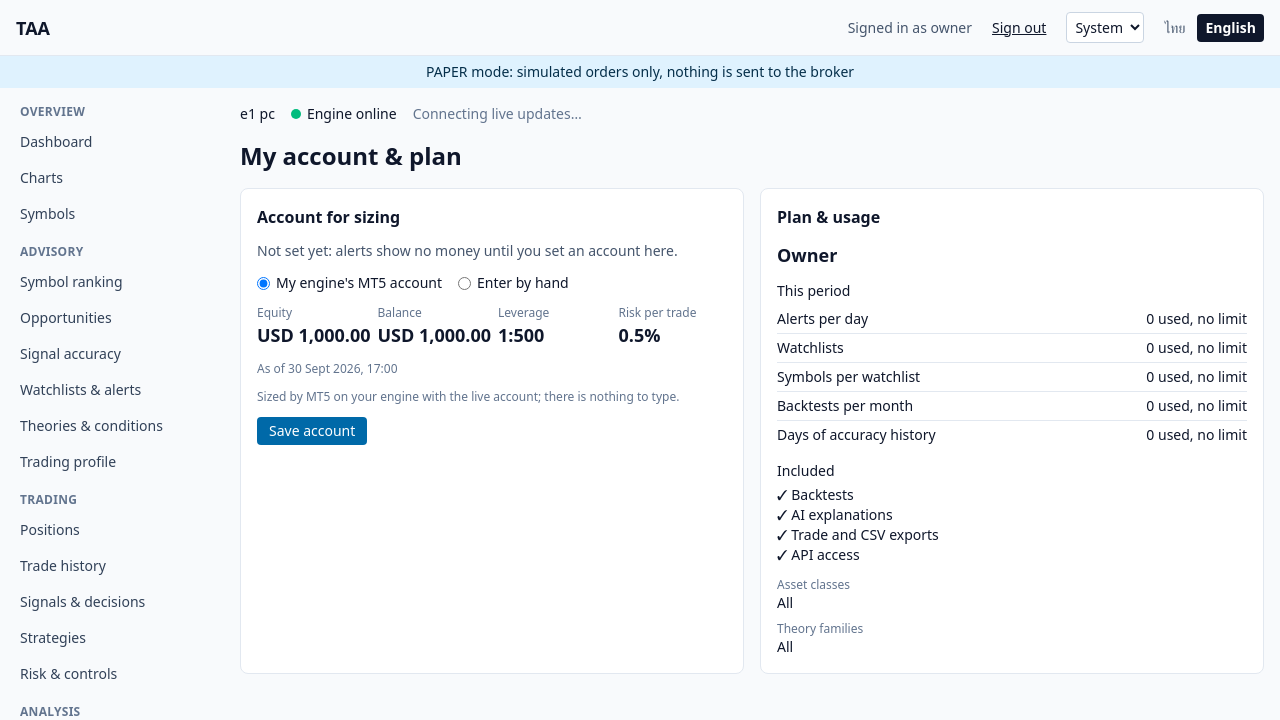
Test: account page › links the profile to the engine’s MT5 account and shows the plan and usage
Expected: the text "Not set yet" is shown, [257,241,678,260]
Expected: the radio button labelled "My engine's MT5 account" is checked, [257,276,270,290]
Click the button "Save account". click: (312, 431)
box: [257,417,367,445]
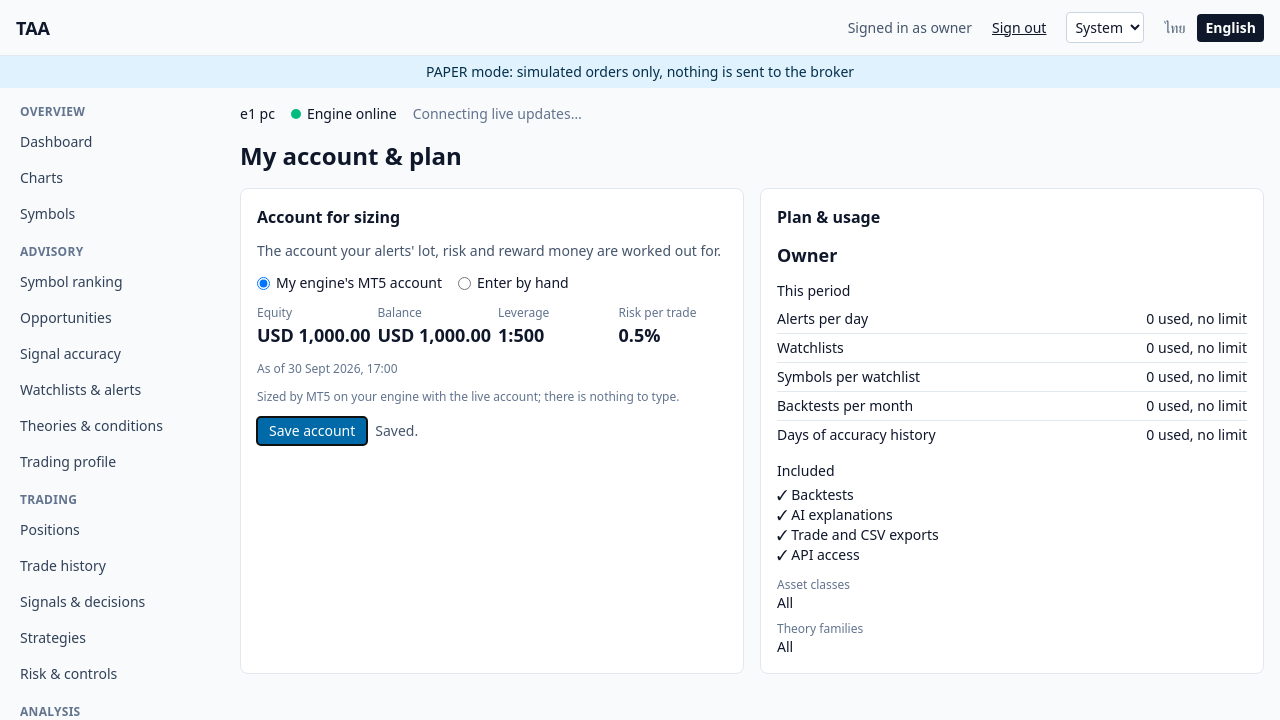
Expected: the text "Owner" is shown, [777,243,837,267]
Expected: the message reads "Saved.", [375,421,418,440]
